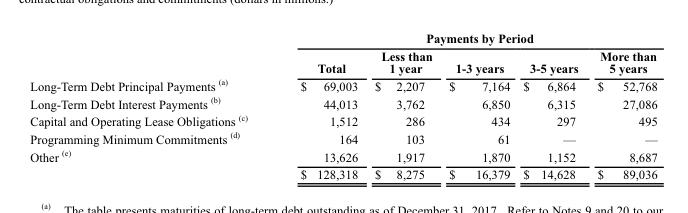table: (29, 29, 656, 182)
table column: (29, 29, 273, 182), (273, 29, 365, 182), (440, 29, 516, 182), (365, 29, 440, 182), (516, 29, 587, 182), (587, 29, 656, 182)
table column header: (29, 29, 656, 76)
table row: (29, 46, 656, 76), (29, 146, 656, 165), (29, 93, 656, 111), (29, 111, 656, 129), (29, 29, 656, 46), (29, 76, 656, 93), (29, 129, 656, 146), (29, 165, 656, 182)
table spanning cell: (273, 29, 656, 46)
